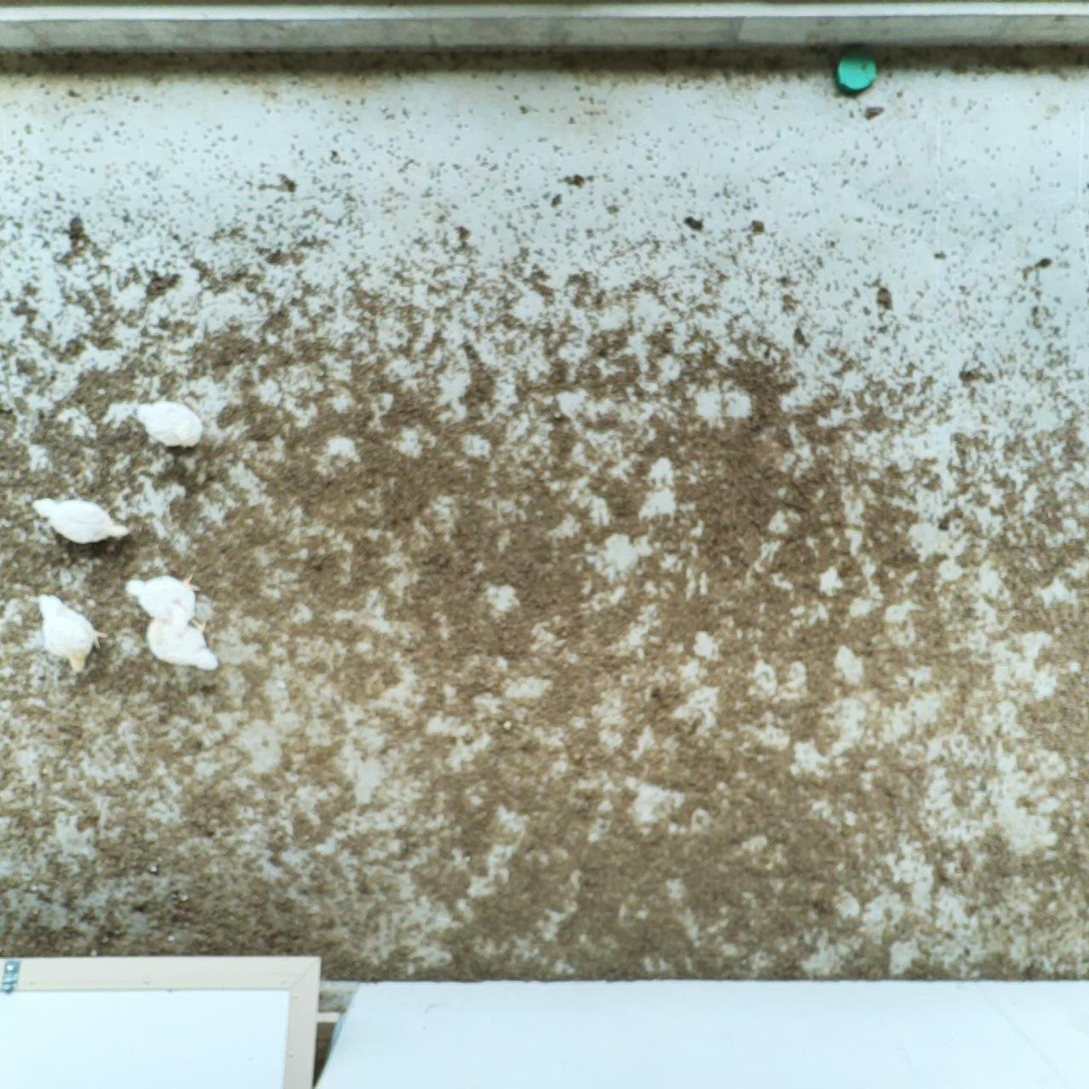chicken: (27, 490, 131, 548), (34, 589, 100, 679), (140, 614, 220, 671), (126, 396, 204, 452), (122, 570, 200, 623)
